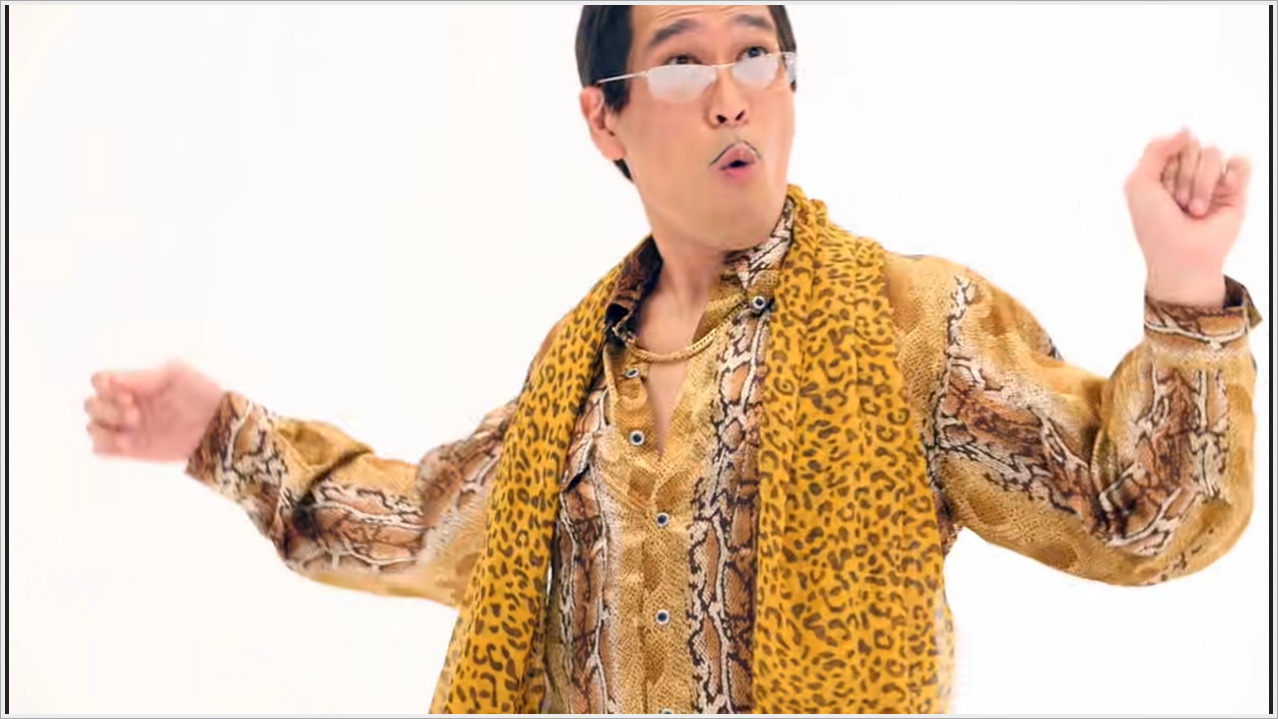hand: (1122, 121, 1260, 273), (83, 356, 215, 465)
